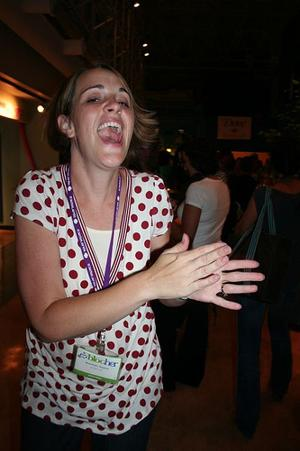person: (13, 58, 266, 451)
